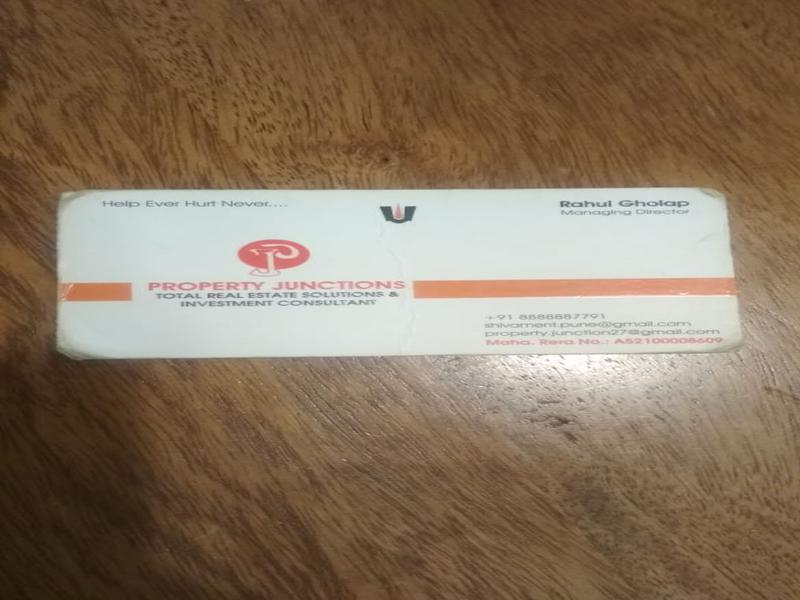card: (53, 186, 744, 359)
